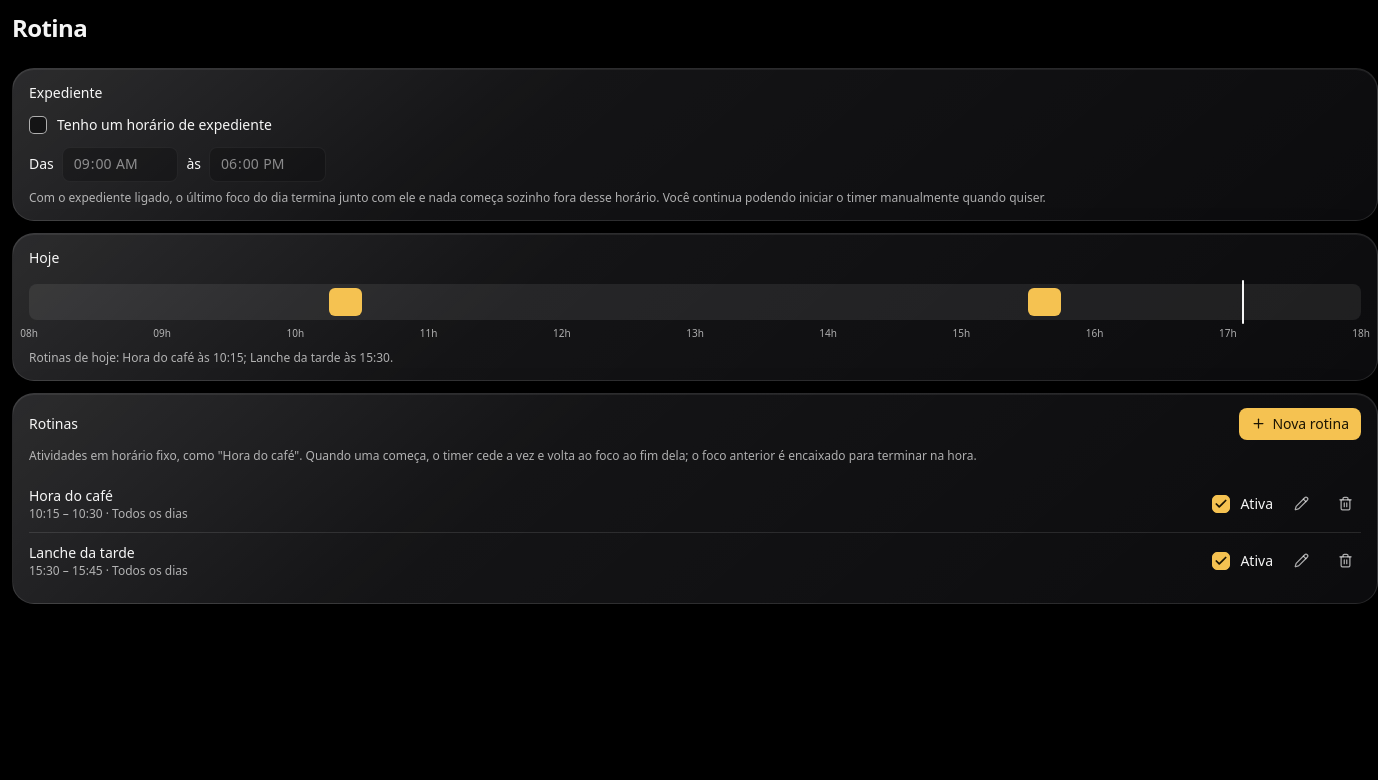
Test: RoutinesPage › descarta o horário incompleto ao sair do campo
Click the checkbox named "Tenho um horário de expediente" next to "Tenho um horário de expediente".
click(38, 125)  # box 29,116 -> 47,134
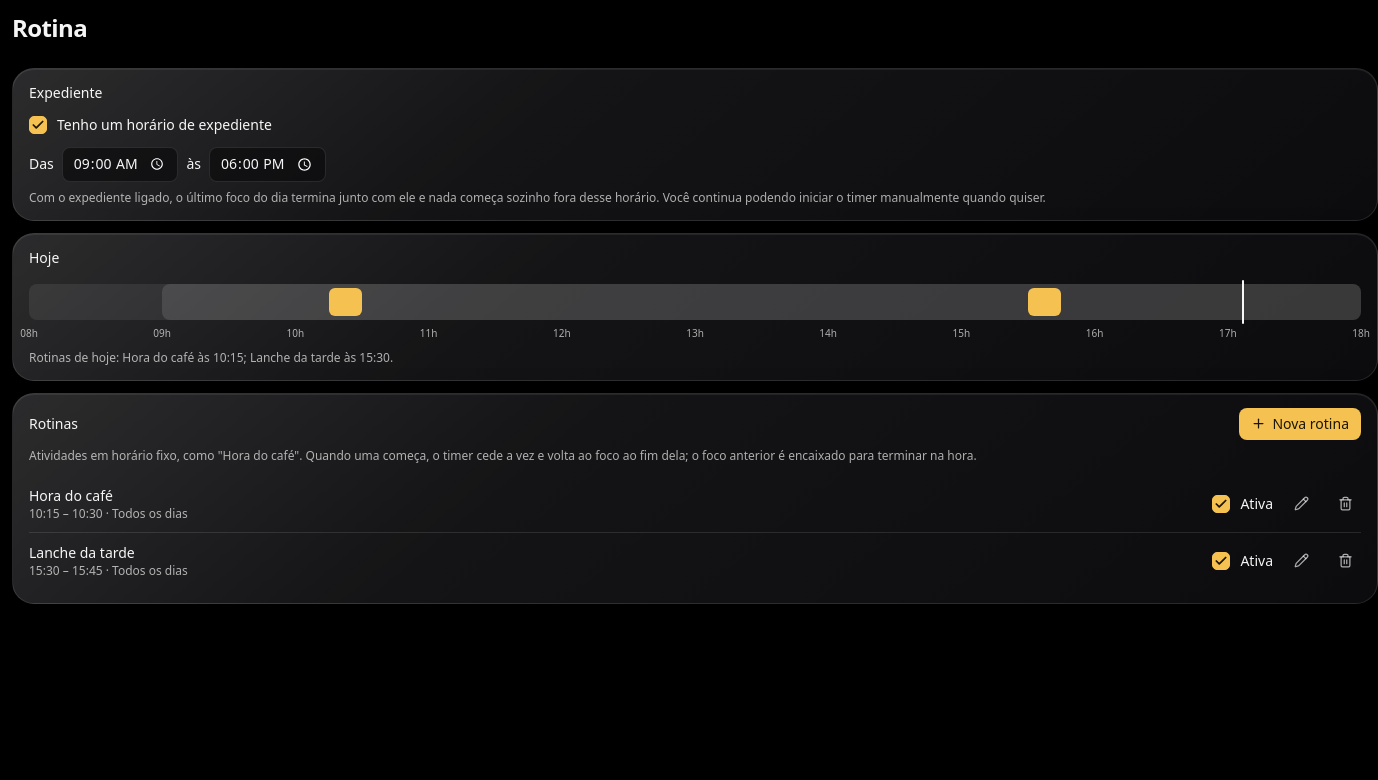
Clear the time field labelled "Das" at (120, 164), box 62,147 -> 178,182
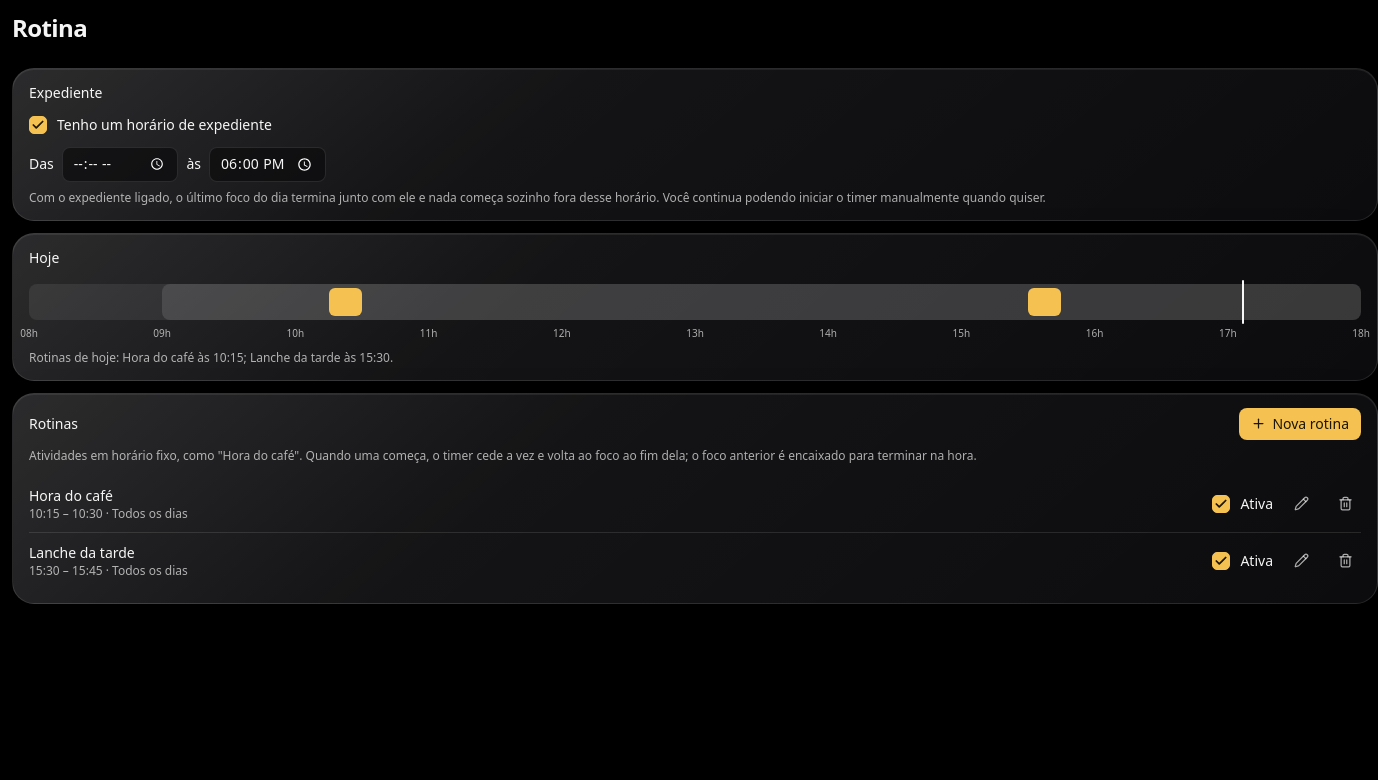
Leave the time field labelled "Das", box 62,147 -> 178,182
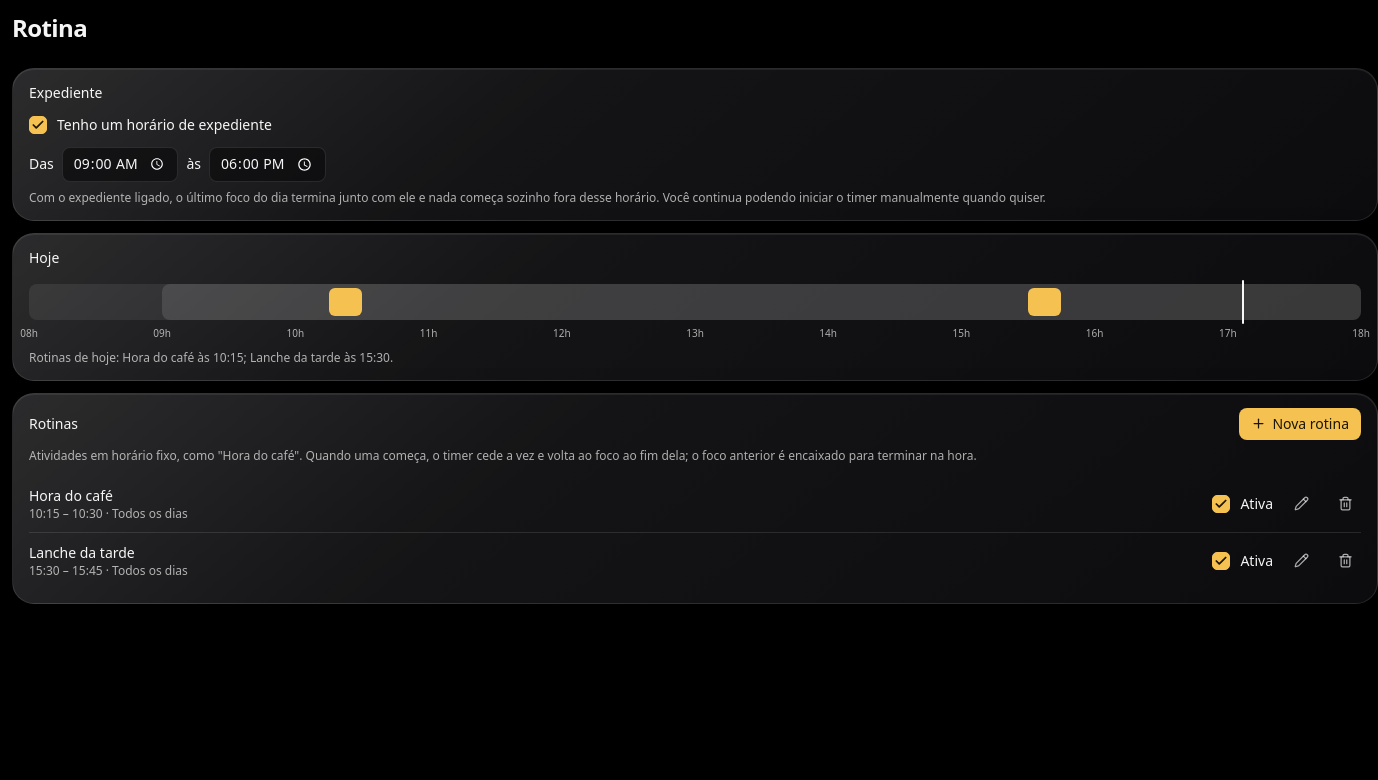
Expected: the time field labelled "Das" holds "09:00", 62,147 -> 178,182
